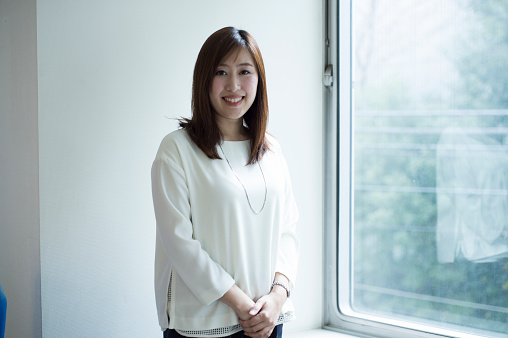em pe: (139, 13, 303, 338)
